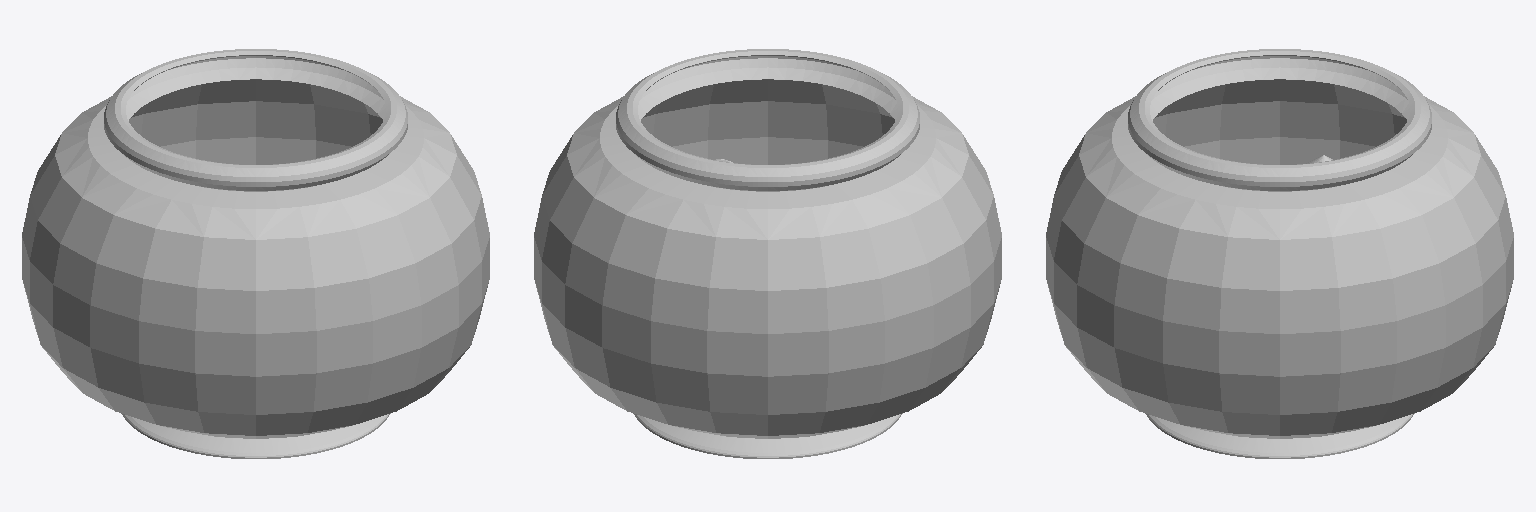
File: Exported_Maya_file.obj
The picture shows the model from 3 angles: view 1: azimuth 30°, elevation 25°; view 2: azimuth 150°, elevation 25°; view 3: azimuth 270°, elevation 25°; orthographic projection.
Visible parts, largest first — view 1: Fish_Bowl; view 2: Fish_Bowl; view 3: Fish_Bowl.
Part boxes in pixels (x1,y1,x2,y2): Fish_Bowl: (22,49,489,458); Fish_Bowl: (534,49,1001,458); Fish_Bowl: (1046,49,1513,458).
Bounding box in the file's own units: 11.09 × 7.73 × 11.09.